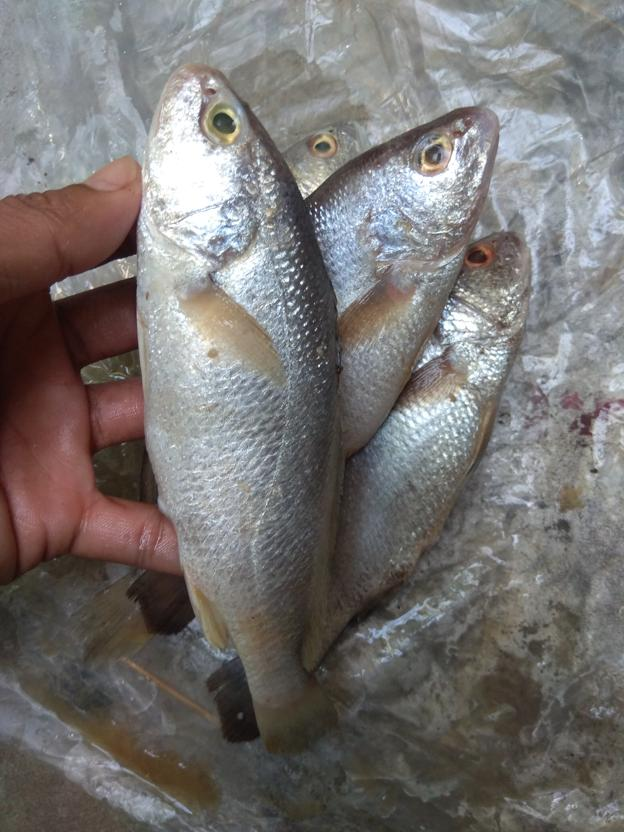Fish head: (135, 62, 294, 256), (363, 105, 502, 260), (430, 230, 534, 349), (283, 121, 364, 201)
Fish tail: (248, 672, 340, 759), (125, 567, 196, 640), (205, 656, 261, 745)
